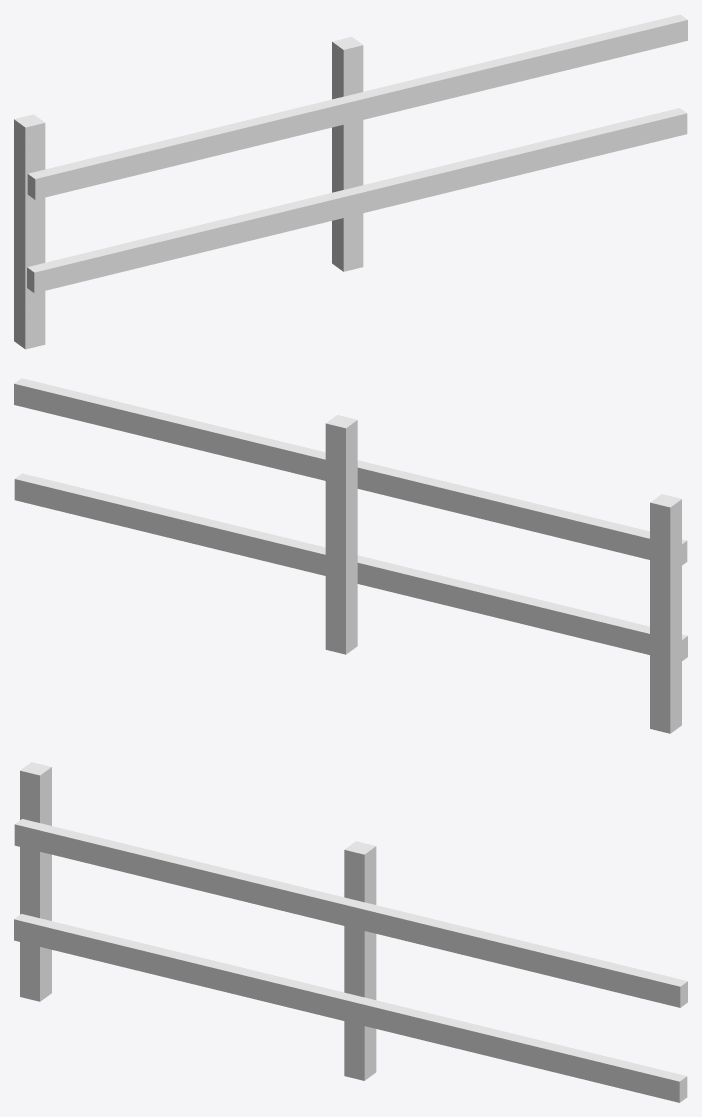
Rendered from Fence_02.fbx.
3 views of the same model, one above another, from view 1: azimuth 30°, elevation 25°; view 2: azimuth 150°, elevation 25°; view 3: azimuth 330°, elevation 25° (orthographic).
Visible parts, largest first — view 1: Fence_02; view 2: Fence_02; view 3: Fence_02.
Boxes of the visible parts, x1,y1,x2,y2 form: Fence_02: (14,14,687,349); Fence_02: (14,378,687,733); Fence_02: (14,762,687,1102).
Size of the model in its own units: 6.18 by 2 by 0.3079.
